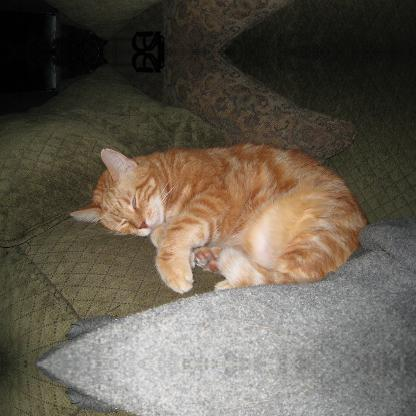Cat: (69, 139, 370, 295)
